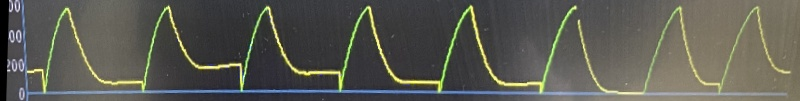leakage: (33, 0, 553, 97)
normal_volume: (537, 2, 654, 100)
